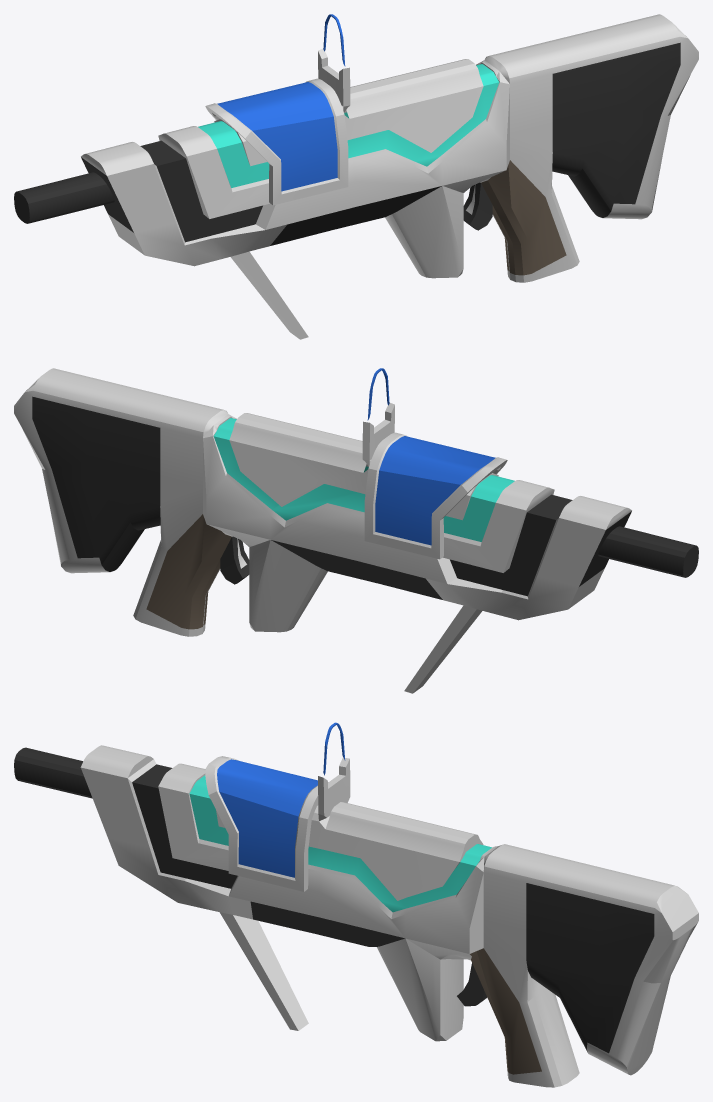
The model's file is weapon placeholder DimA.fbx.
3 views of the same model, one above another, from view 1: azimuth 30°, elevation 25°; view 2: azimuth 150°, elevation 25°; view 3: azimuth 330°, elevation 25° (orthographic).
Visible parts, largest first — view 1: Weapon DimA, Weapon DimA.002, Weapon DimA.001; view 2: Weapon DimA, Weapon DimA.002, Weapon DimA.001; view 3: Weapon DimA, Weapon DimA.002, Weapon DimA.001.
Part boxes in pixels (x1,y1,x2,y2): Weapon DimA: (14, 14, 698, 339); Weapon DimA.002: (205, 78, 348, 205); Weapon DimA.001: (214, 14, 483, 166); Weapon DimA: (14, 368, 698, 693); Weapon DimA.002: (364, 432, 507, 559); Weapon DimA.001: (229, 368, 498, 520); Weapon DimA: (14, 745, 698, 1087); Weapon DimA.002: (205, 756, 328, 891); Weapon DimA.001: (216, 722, 483, 900).
Size of the model in its own units: 1.51 by 0.672 by 0.1739.
